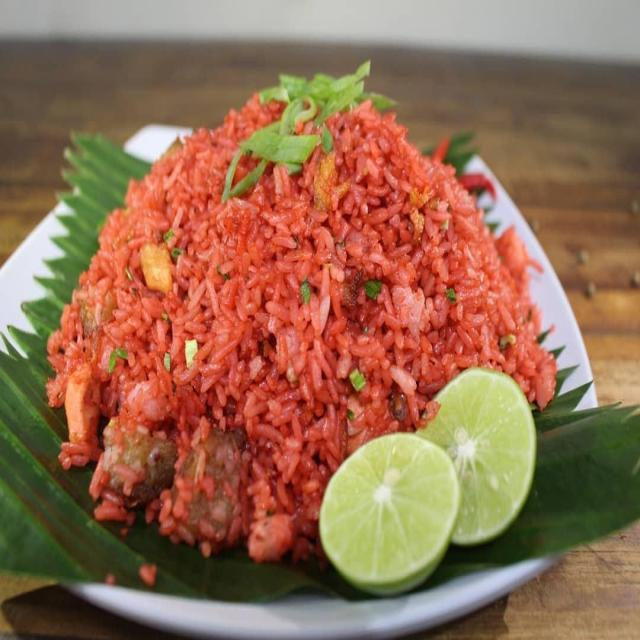Nasi Goreng: (44, 63, 559, 577)
